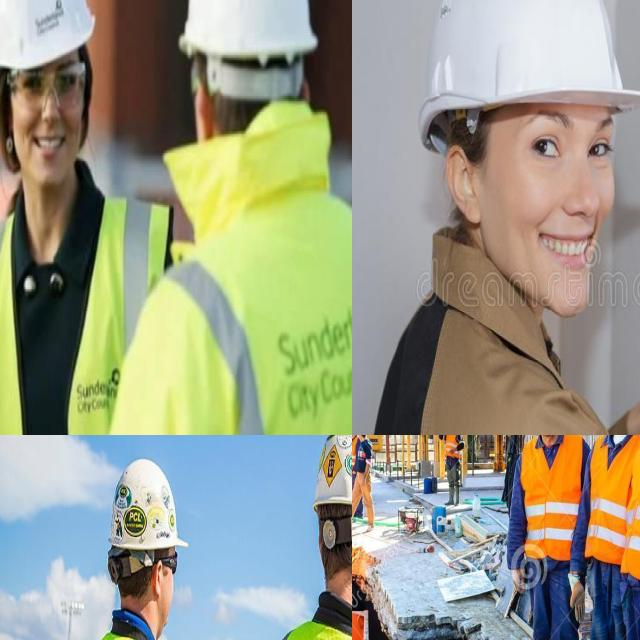No_Ear-Protection: (445, 142, 485, 235)
No_Glasses: (511, 107, 621, 177)
boots: (452, 488, 463, 508), (443, 488, 455, 506)
face_nomask: (4, 60, 96, 186), (148, 547, 180, 640)
glasses: (3, 56, 90, 114)
hand_glove: (564, 573, 590, 623)
hand_noglove: (506, 564, 530, 601)
head_helmet: (160, 0, 344, 83), (111, 453, 182, 552), (0, 0, 96, 72), (307, 435, 352, 535)
person: (140, 0, 352, 435), (0, 0, 130, 435), (85, 459, 186, 640), (278, 435, 352, 640), (516, 435, 587, 640), (586, 435, 637, 640), (437, 435, 467, 507), (352, 435, 375, 528), (352, 435, 358, 468)
vest: (168, 137, 352, 435), (0, 173, 163, 435), (520, 437, 580, 552), (586, 435, 640, 561), (442, 435, 464, 456), (352, 437, 358, 467)
